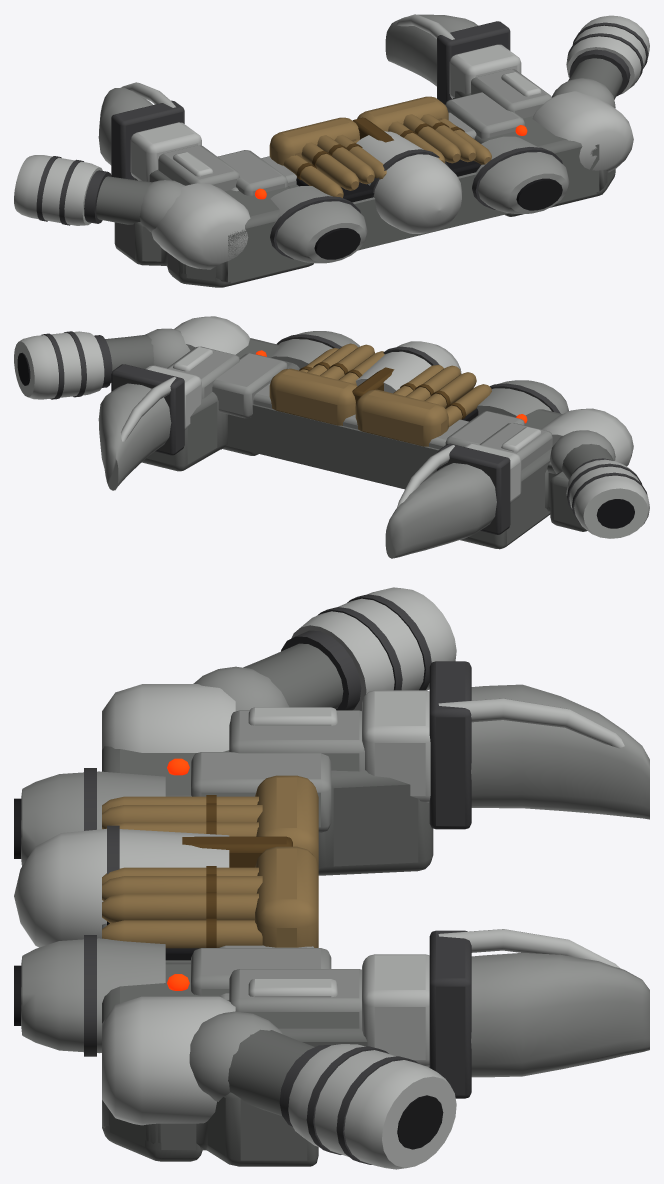
Rendered from store_gun_9.glb.
The picture shows the model from 3 angles, top to bottom: view 1: azimuth 30°, elevation 25°; view 2: azimuth 150°, elevation 25°; view 3: azimuth 270°, elevation 25°; orthographic projection. The views are drawn at different scales.
Visible parts, largest first — view 1: steel_light, steel, steel_mid, steel_dark, gold, black, gold_dark; view 2: steel, steel_light, steel_mid, gold, steel_dark, black, gold_dark; view 3: steel, steel_light, steel_mid, gold, steel_dark, gold_dark, black.
Boxes of the visible parts, x1=… form: steel_light: x1=14, y1=14, x2=649, y2=269; steel: x1=98, y1=14, x2=615, y2=263; steel_mid: x1=96, y1=58, x2=622, y2=287; steel_dark: x1=36, y1=21, x2=648, y2=259; gold: x1=269, y1=96, x2=491, y2=197; black: x1=296, y1=159, x2=562, y2=259; gold_dark: x1=296, y1=117, x2=464, y2=179; steel: x1=98, y1=328, x2=615, y2=558; steel_light: x1=14, y1=316, x2=649, y2=538; steel_mid: x1=105, y1=334, x2=613, y2=549; gold: x1=269, y1=343, x2=491, y2=446; steel_dark: x1=41, y1=331, x2=647, y2=534; black: x1=17, y1=352, x2=634, y2=528; gold_dark: x1=299, y1=361, x2=466, y2=419; steel: x1=21, y1=666, x2=649, y2=1101; steel_light: x1=14, y1=587, x2=624, y2=1169; steel_mid: x1=102, y1=643, x2=433, y2=1166; gold: x1=102, y1=775, x2=318, y2=948; steel_dark: x1=84, y1=594, x2=471, y2=1164; gold_dark: x1=182, y1=795, x2=292, y2=947; black: x1=14, y1=798, x2=443, y2=1149.
Bounding box in the file's own units: 97.36 × 14.9 × 49.9.
